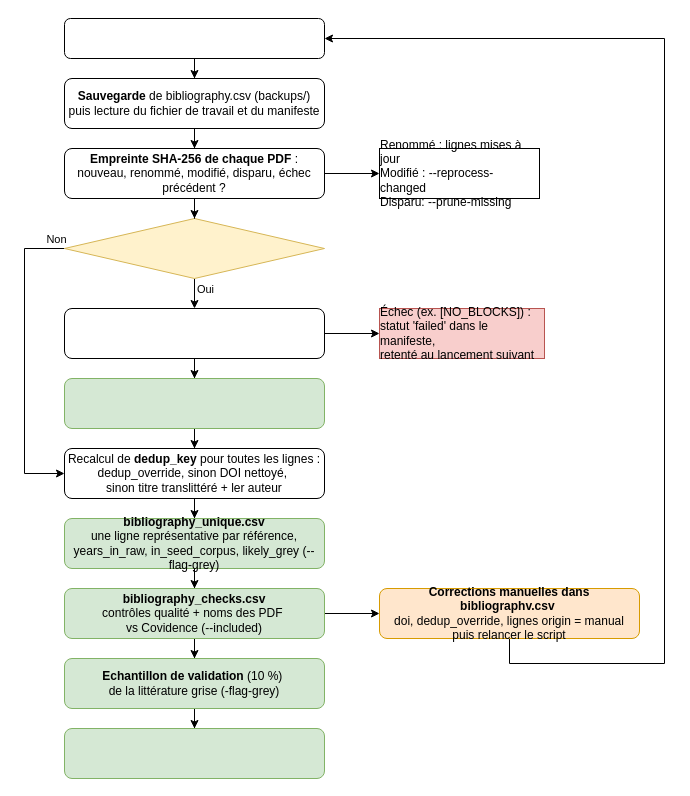
Some shapes in this 690 by 796 pixel diagram are drawn without their labels. Here are the shapes that lost their labels. From the top down, the centre of each, then its label:
At [194,38]: "Corpus de départ (Dossier de fich iers PDF + export Covidence optionnel)".
At [194,248]: "PDF à envoyer à GROBID ?".
At [194,333]: "Pour chaque PDF : processReferences parser le TEl, remplacer les lignes 'grobid'".
At [194,403]: "bibliography.csv Enregistrement immédiat du CSV et du manifeste".
At [194,753]: "README , run_log.json (version GROBID, réglages, échecs), bilan dans la console".
